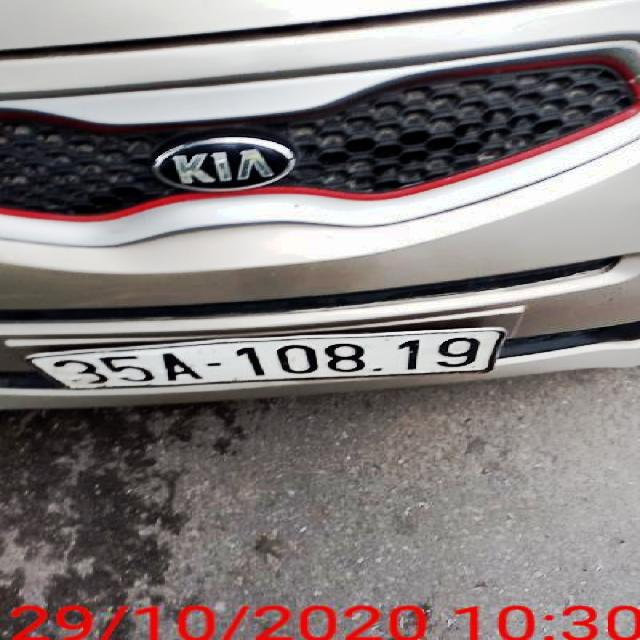license_plate: (33, 330, 499, 394)
